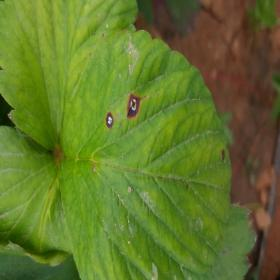Leaf Spot: (59, 29, 232, 279)
